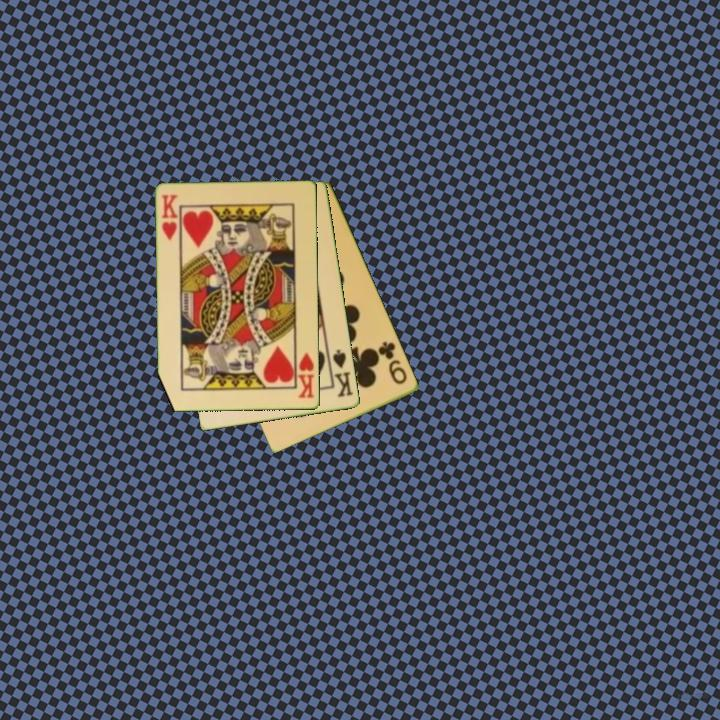9c: (375, 338, 410, 387)
Kh: (292, 347, 317, 401), (158, 191, 181, 244)
Ks: (325, 347, 356, 400)
